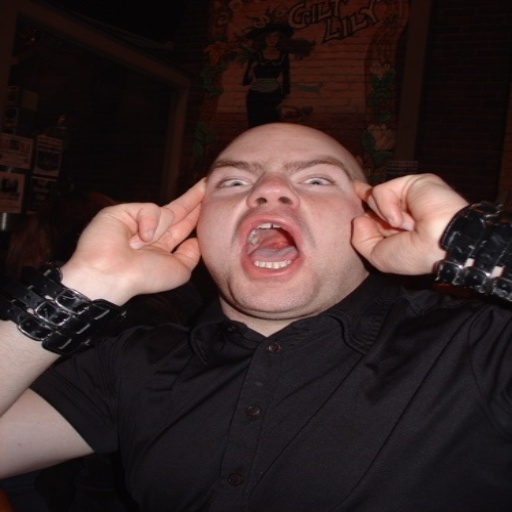hand: (65, 180, 234, 308), (348, 173, 468, 276)
